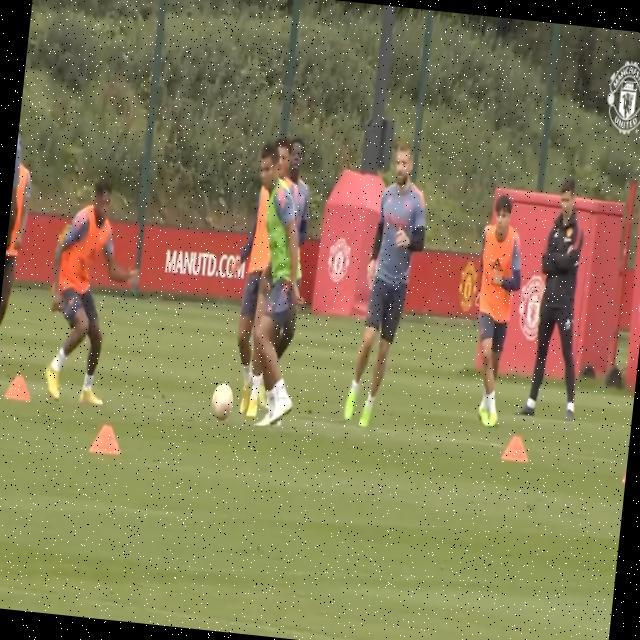Adidas: (489, 252, 505, 273)
